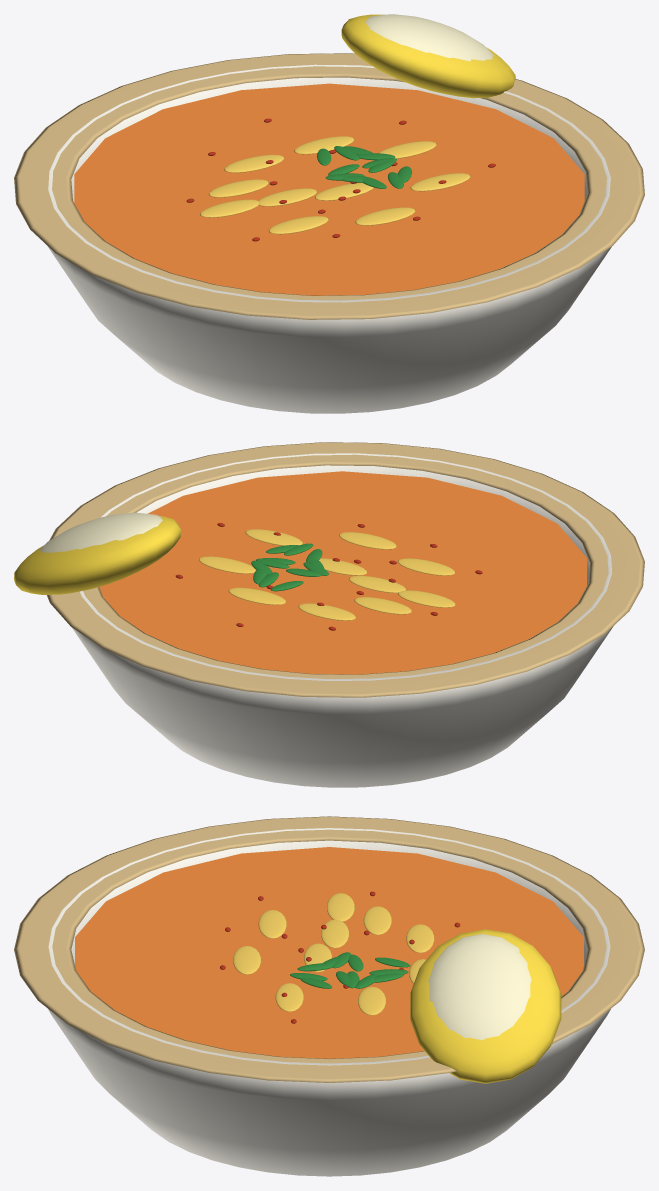
File: turkish-lentil-soup.glb
3 renders of one model, top to bottom at view 1: azimuth 30°, elevation 25°; view 2: azimuth 150°, elevation 25°; view 3: azimuth 270°, elevation 25°, orthographic. The views are drawn at different scales.
Visible parts, largest first — view 1: lentil soup surface, ceramic soup bowl, golden bowl rim, lemon wedge peel, lemon wedge flesh, olive oil swirl 3, olive oil swirl 8, olive oil swirl 2, olive oil swirl 1, olive oil swirl 4, olive oil swirl 7, olive oil swirl 9 (+3 smaller); view 2: lentil soup surface, ceramic soup bowl, golden bowl rim, lemon wedge peel, lemon wedge flesh, olive oil swirl 8, olive oil swirl 3, olive oil swirl 1, olive oil swirl 2, olive oil swirl 6, olive oil swirl 5, olive oil swirl 7 (+3 smaller); view 3: lentil soup surface, ceramic soup bowl, golden bowl rim, lemon wedge peel, lemon wedge flesh, olive oil swirl 8, olive oil swirl 2, olive oil swirl 5, olive oil swirl 3, olive oil swirl 1, olive oil swirl 4, olive oil swirl 7 (+1 smaller).
Part boxes in pixels (box(x1,y1,x2,y2)): lentil soup surface: box(74, 83, 584, 295); ceramic soup bowl: box(47, 64, 611, 413); golden bowl rim: box(14, 53, 644, 319); lemon wedge peel: box(341, 14, 515, 98); lemon wedge flesh: box(365, 14, 493, 61); olive oil swirl 3: box(355, 207, 415, 225); olive oil swirl 8: box(208, 179, 268, 197); olive oil swirl 2: box(268, 216, 328, 234); olive oil swirl 1: box(200, 199, 258, 217); olive oil swirl 4: box(410, 173, 470, 191); olive oil swirl 7: box(224, 154, 284, 172); olive oil swirl 9: box(258, 188, 317, 206); lentil soup surface: box(99, 471, 586, 674); ceramic soup bowl: box(72, 453, 613, 787); golden bowl rim: box(47, 442, 644, 697); lemon wedge peel: box(14, 516, 180, 594); lemon wedge flesh: box(40, 512, 162, 552); olive oil swirl 8: box(354, 597, 411, 614); olive oil swirl 3: box(339, 532, 396, 549); olive oil swirl 1: box(398, 590, 455, 607); olive oil swirl 2: box(397, 558, 455, 575); olive oil swirl 6: box(228, 587, 286, 604); olive oil swirl 5: box(199, 556, 256, 573); olive oil swirl 7: box(298, 603, 355, 620); lentil soup surface: box(75, 847, 583, 1058); ceramic soup bowl: box(48, 828, 610, 1176); golden bowl rim: box(14, 816, 644, 1082); lemon wedge peel: box(410, 929, 561, 1083); lemon wedge flesh: box(428, 933, 531, 1040); olive oil swirl 8: box(363, 906, 391, 934); olive oil swirl 2: box(258, 910, 286, 938); olive oil swirl 5: box(358, 986, 385, 1015); olive oil swirl 3: box(233, 946, 260, 974); olive oil swirl 1: box(327, 893, 354, 921); olive oil swirl 4: box(275, 983, 303, 1011); olive oil swirl 7: box(406, 924, 434, 952).
Size of the model in its own units: 0.2222 by 0.0884 by 0.2222.
